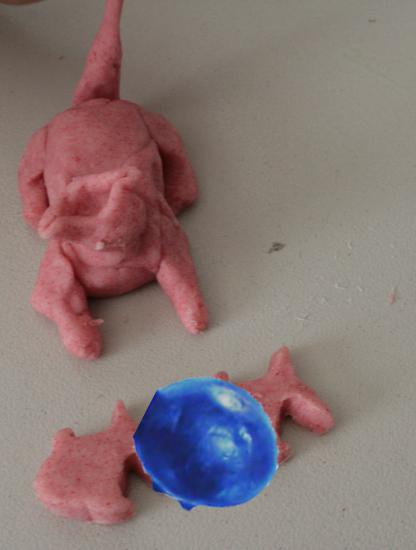Huckleberry: (137, 375, 280, 518)
